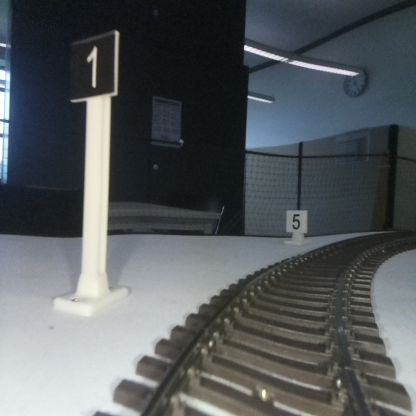black-info-1: (71, 35, 114, 309)
white-stop-5: (286, 210, 306, 243)
